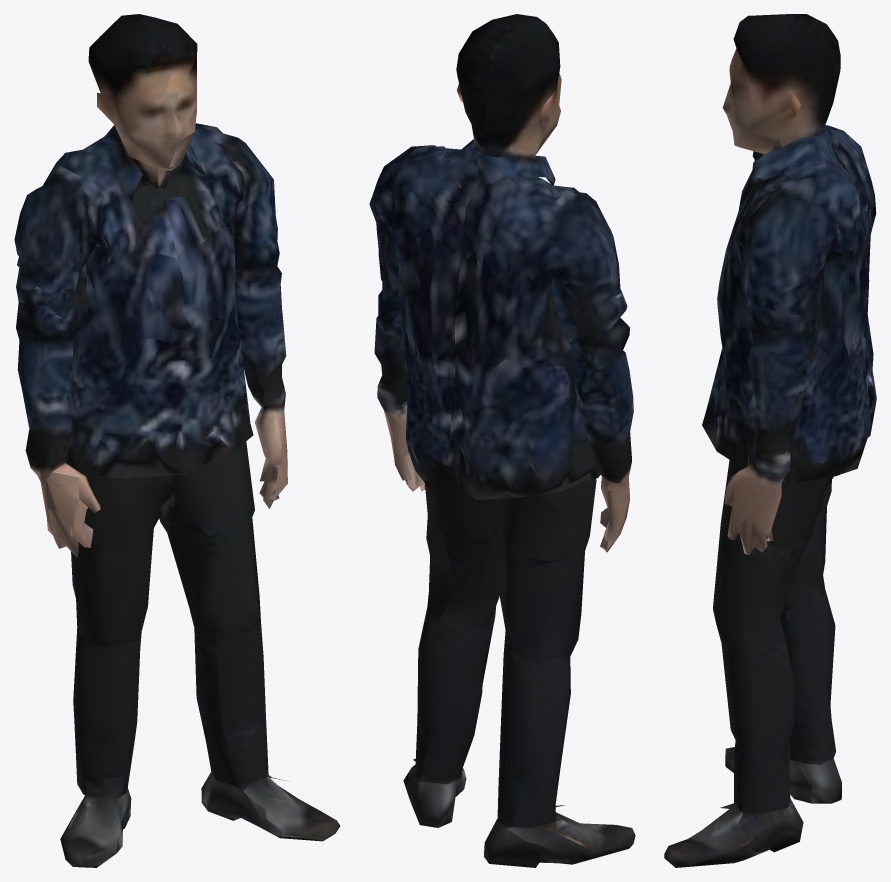
The model's file is cowok_baju_batik_idle_lod2.glb.
3 views of the same model, side by side, from view 1: azimuth 30°, elevation 25°; view 2: azimuth 150°, elevation 25°; view 3: azimuth 270°, elevation 25° (orthographic). The views are drawn at different scales.
Visible parts, largest first — view 1: tripo_node_08bfa1f2-1b88-47eb-8e07-dc9f3604934f; view 2: tripo_node_08bfa1f2-1b88-47eb-8e07-dc9f3604934f; view 3: tripo_node_08bfa1f2-1b88-47eb-8e07-dc9f3604934f.
Part boxes in pixels (box(x1,y1,x2,y2)): tripo_node_08bfa1f2-1b88-47eb-8e07-dc9f3604934f: box(14, 14, 340, 867); tripo_node_08bfa1f2-1b88-47eb-8e07-dc9f3604934f: box(369, 14, 635, 867); tripo_node_08bfa1f2-1b88-47eb-8e07-dc9f3604934f: box(664, 14, 876, 867).
Bounding box in the file's own units: 32.49 × 96.91 × 23.56.
1 material, 1 textured.
